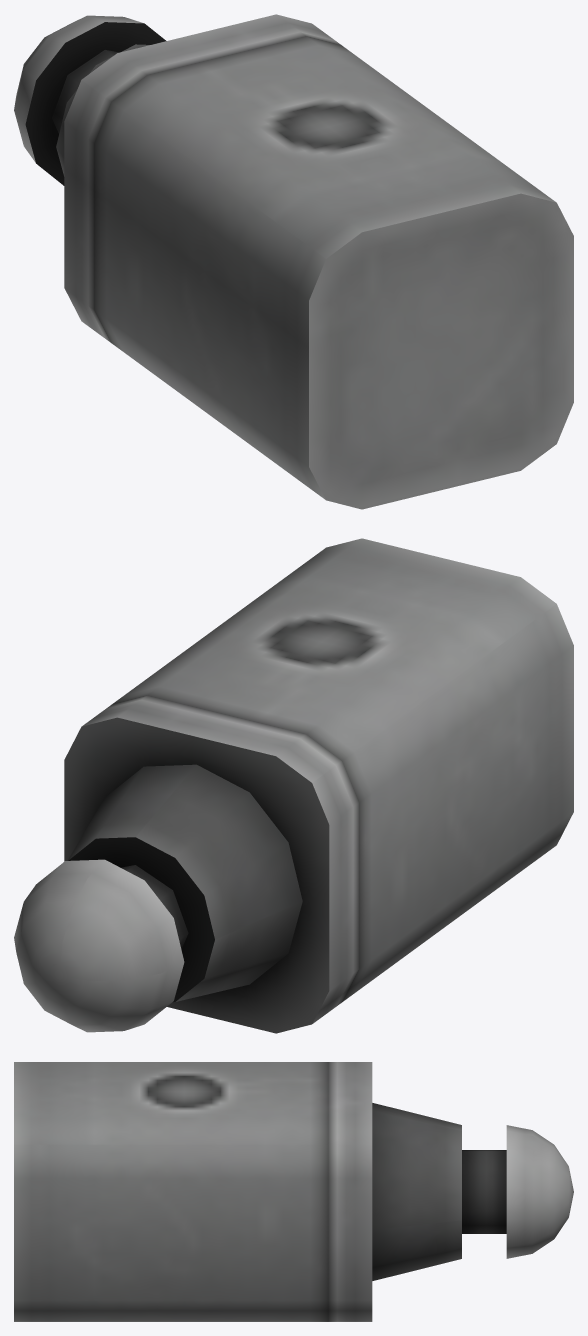
Rendered from octans_star_tracker_srf_1.obj.
The picture shows the model from 3 angles, top to bottom: view 1: azimuth 30°, elevation 25°; view 2: azimuth 150°, elevation 25°; view 3: azimuth 270°, elevation 25°; orthographic projection. The views are drawn at different scales.
Visible parts, largest first — view 1: mesh; view 2: mesh; view 3: mesh.
Boxes of the visible parts, bbox=[...] form: mesh: bbox=[14, 14, 573, 509]; mesh: bbox=[14, 538, 573, 1033]; mesh: bbox=[14, 1062, 573, 1321].
Bounding box in the file's own units: 0.125 × 0.125 × 0.3125.
Materials: 1 (1 with a texture image).
